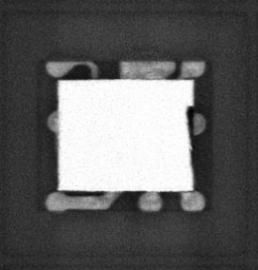DIE_BROKEN: (184, 104, 197, 170)
